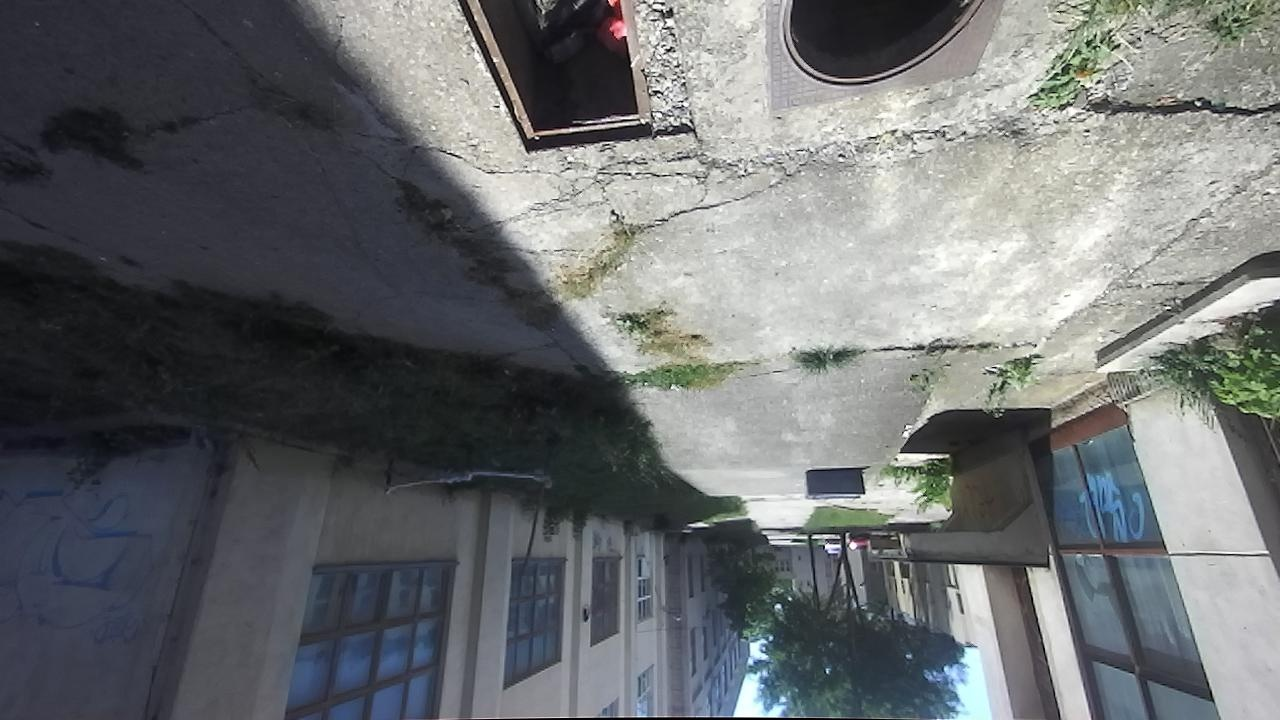drain: (451, 0, 659, 156), (766, 0, 985, 106)
